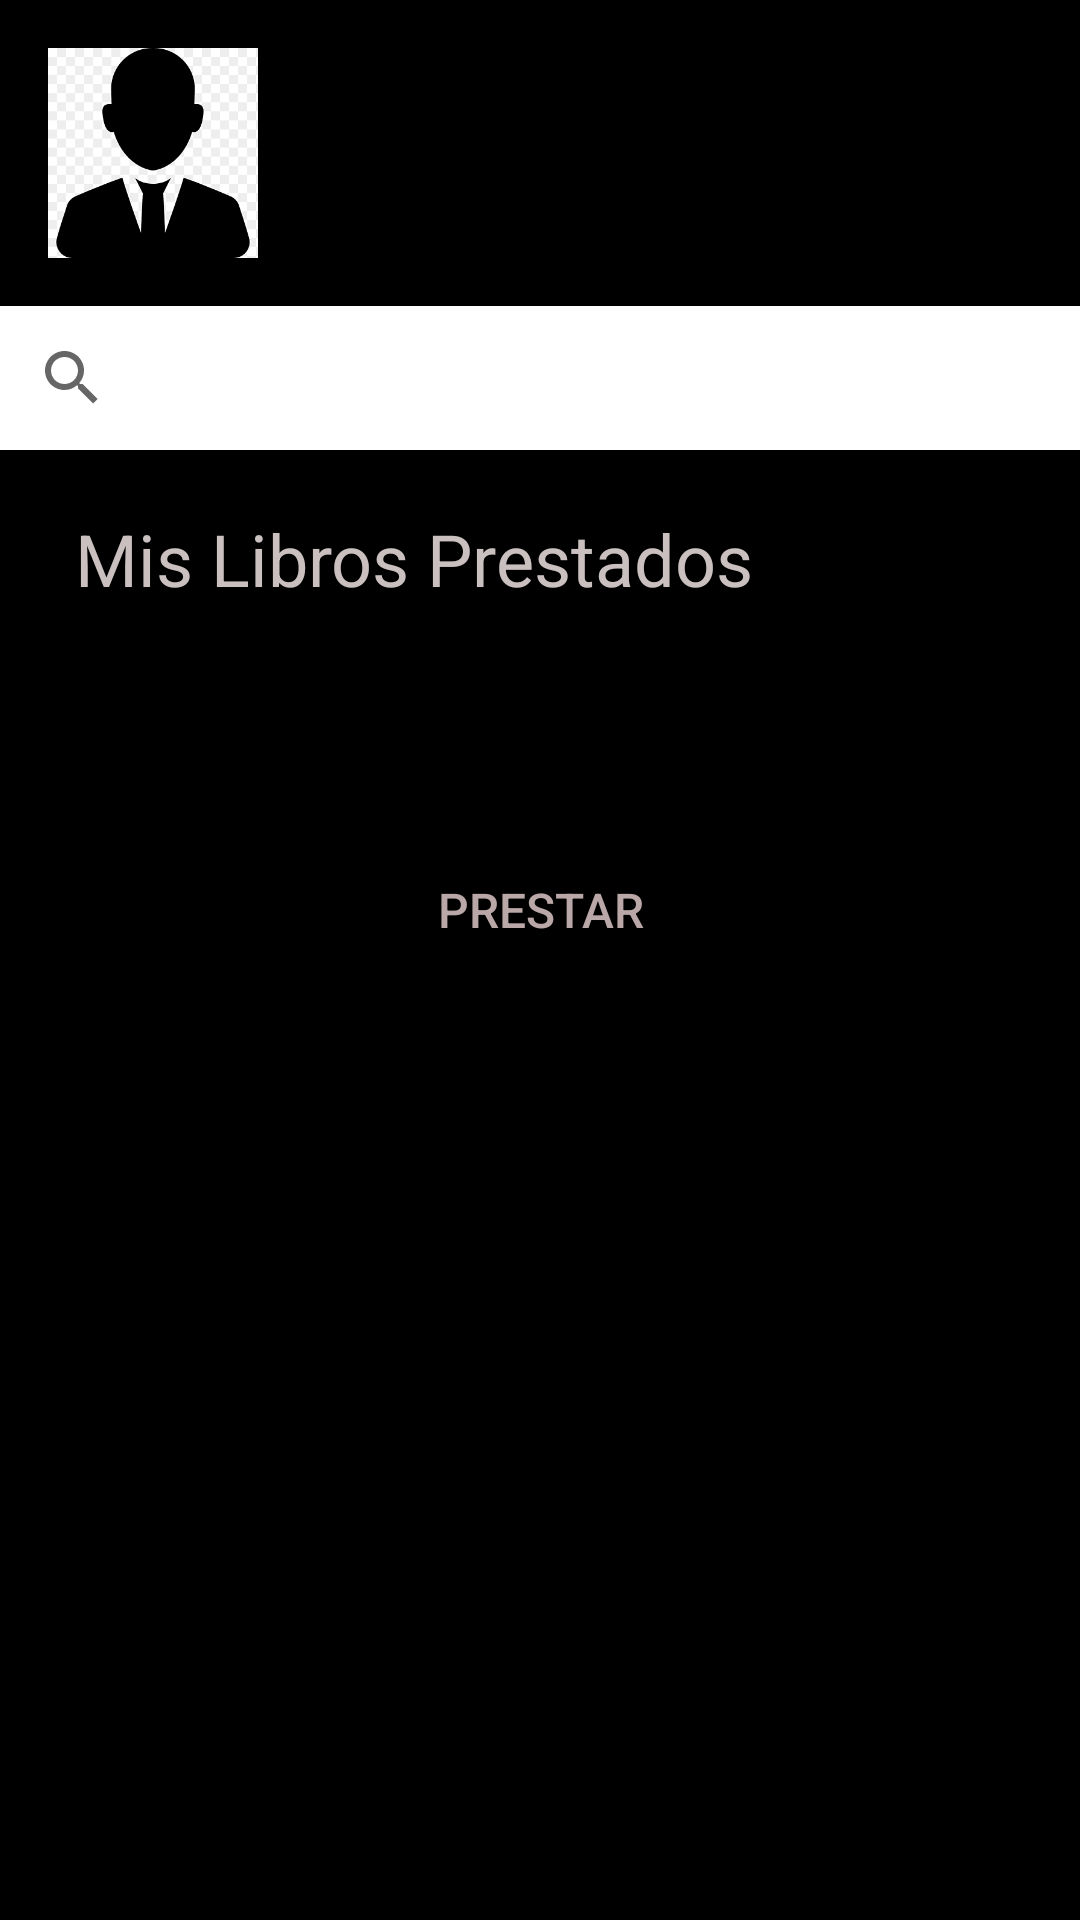

Icon bounding boxes for this 1080w x 1920h phone screenshot, format (x1, y1, x2, y2):
admin: (48, 48, 258, 258)
